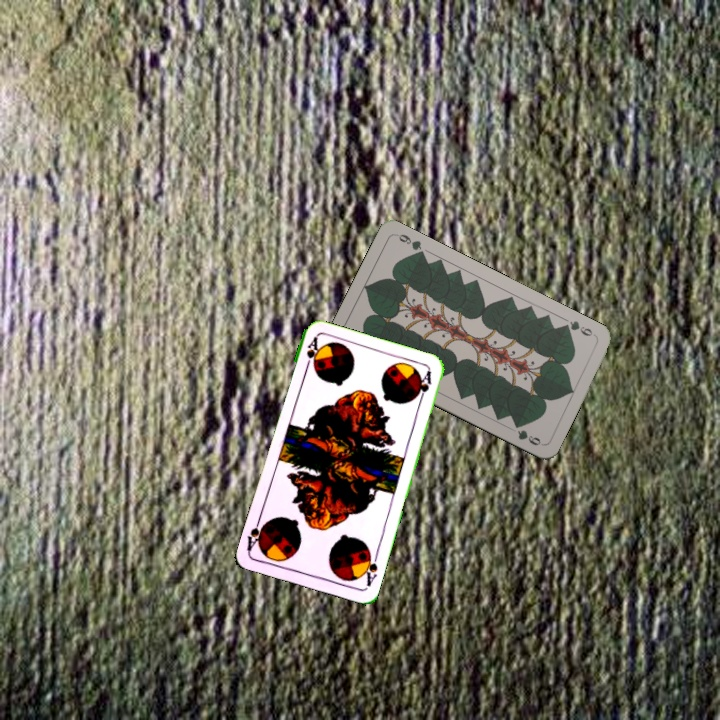G9: (558, 316, 595, 339)
SA: (358, 547, 381, 589), (301, 333, 322, 373)
